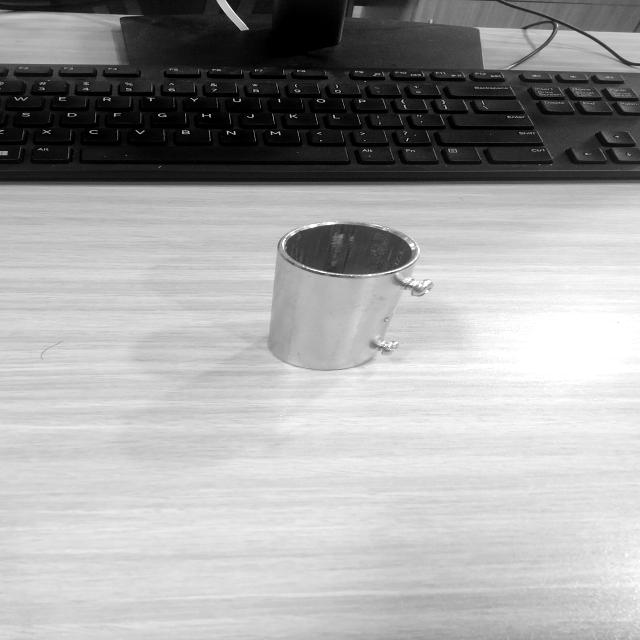Co_Lon: (265, 214, 438, 381)
